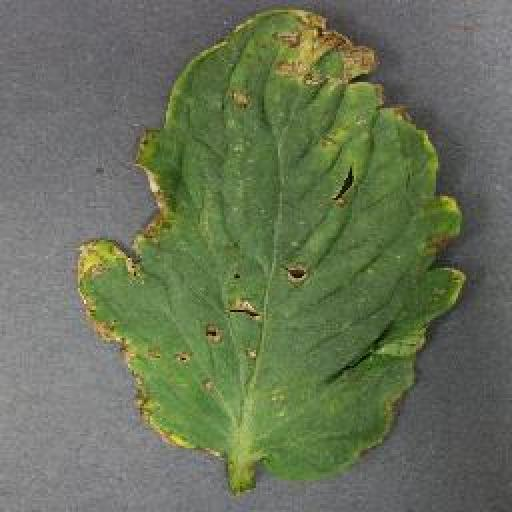Bacterial Spot: (68, 4, 478, 502)
